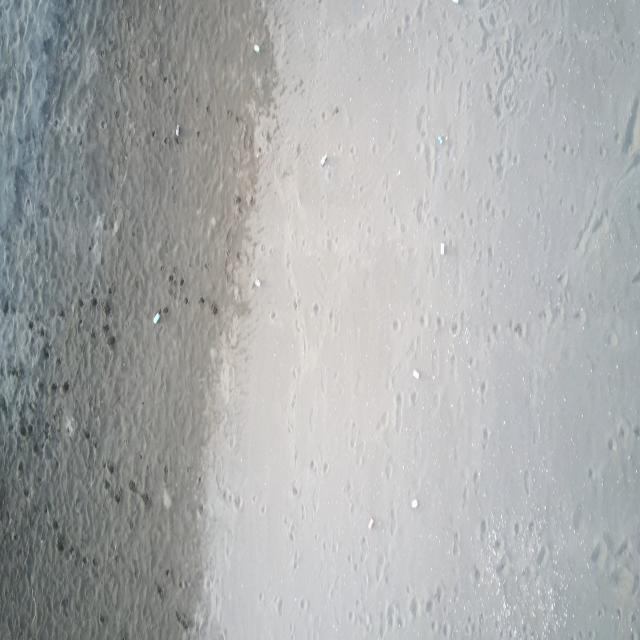tin-and-aluminum-cans: (152, 312, 160, 326), (440, 241, 446, 256), (411, 498, 419, 509), (320, 154, 327, 166), (253, 43, 261, 53), (175, 123, 180, 137), (413, 369, 420, 379), (450, 0, 461, 6), (368, 518, 373, 530), (255, 278, 261, 288), (438, 136, 443, 146)
